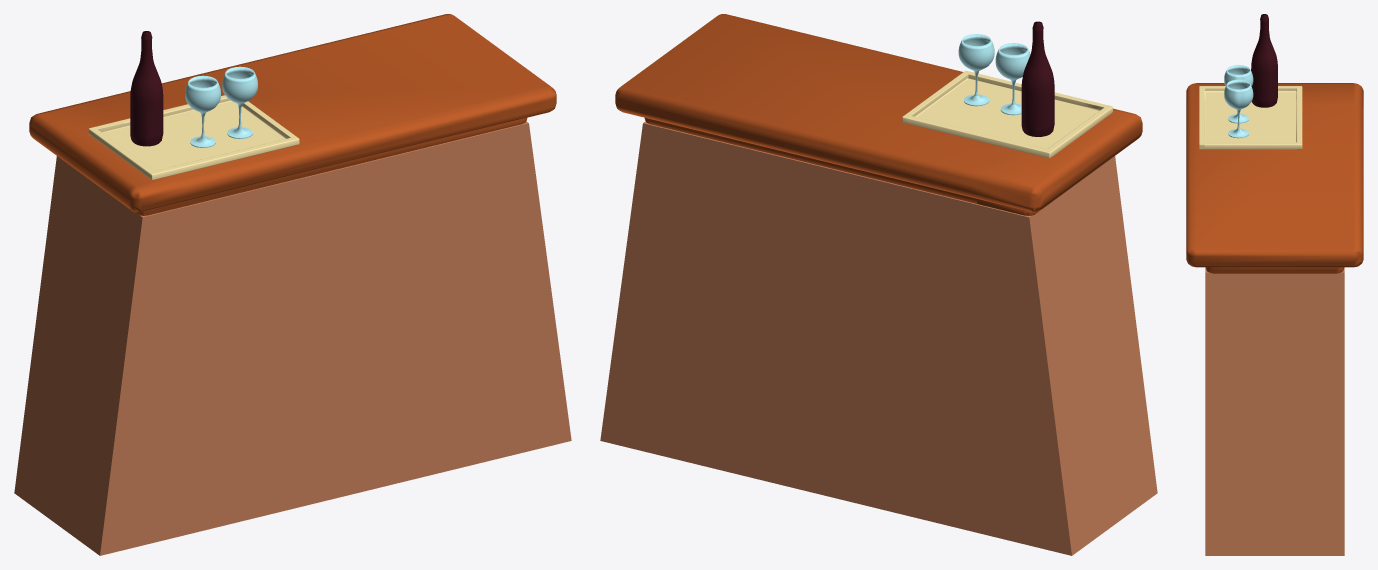
Rendered from Bar-cut.fbx.
3 views of the same model, side by side, from view 1: azimuth 30°, elevation 25°; view 2: azimuth 150°, elevation 25°; view 3: azimuth 270°, elevation 25° (orthographic). The views are drawn at different scales.
Parts seen in each view (by area): view 1: polySurface24_Part_1, polySurface24_Part_2, polySurface24_Part_3; view 2: polySurface24_Part_3, polySurface24_Part_1, polySurface24_Part_2; view 3: polySurface24_Part_1, polySurface24_Part_3, polySurface24_Part_2.
Boxes of the visible parts, x1,y1,x2,y2 form: polySurface24_Part_1: (93, 14, 571, 501); polySurface24_Part_2: (14, 100, 268, 555); polySurface24_Part_3: (267, 491, 363, 514); polySurface24_Part_3: (600, 212, 964, 525); polySurface24_Part_1: (615, 14, 1087, 246); polySurface24_Part_2: (947, 97, 1157, 555); polySurface24_Part_1: (1186, 14, 1363, 555); polySurface24_Part_3: (1221, 352, 1344, 555); polySurface24_Part_2: (1186, 83, 1363, 113).
Bounding box in the file's own units: 104 × 100 × 41.64.
